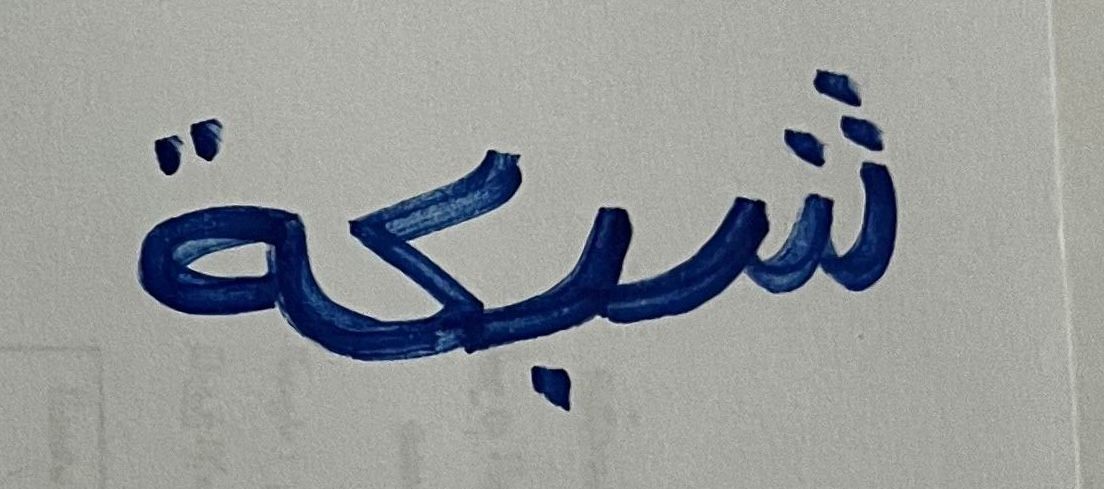beh: (524, 155, 647, 448)
kaf: (329, 121, 519, 418)
sheen: (686, 30, 950, 385)
teh_marbota: (128, 93, 324, 398)
